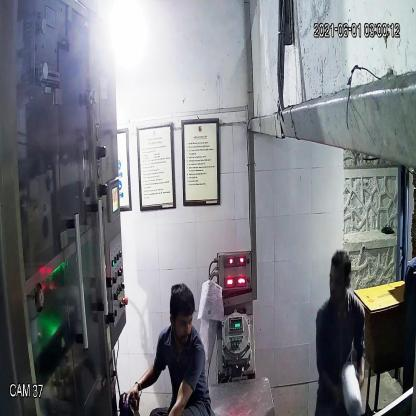no_goggles: (167, 309, 196, 332)
